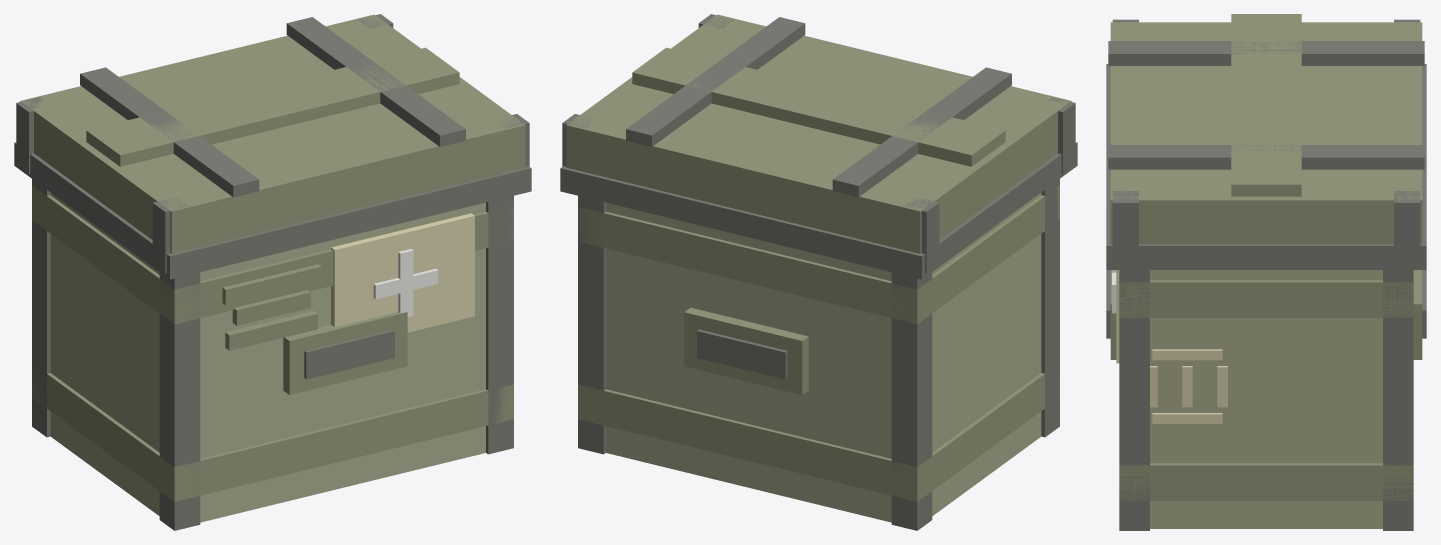
File: supply_crate.glb
3 renders of one model, left to right at view 1: azimuth 30°, elevation 25°; view 2: azimuth 150°, elevation 25°; view 3: azimuth 270°, elevation 25°, orthographic. The views are drawn at different scales.
Visible parts, largest first — view 1: SupplyCrate; view 2: SupplyCrate; view 3: SupplyCrate.
Boxes of the visible parts, x1,y1,x2,y2 form: SupplyCrate: (14,14,531,530); SupplyCrate: (560,14,1077,530); SupplyCrate: (1106,14,1426,530).
Bounding box in the file's own units: 0.988 × 0.87 × 0.73.
